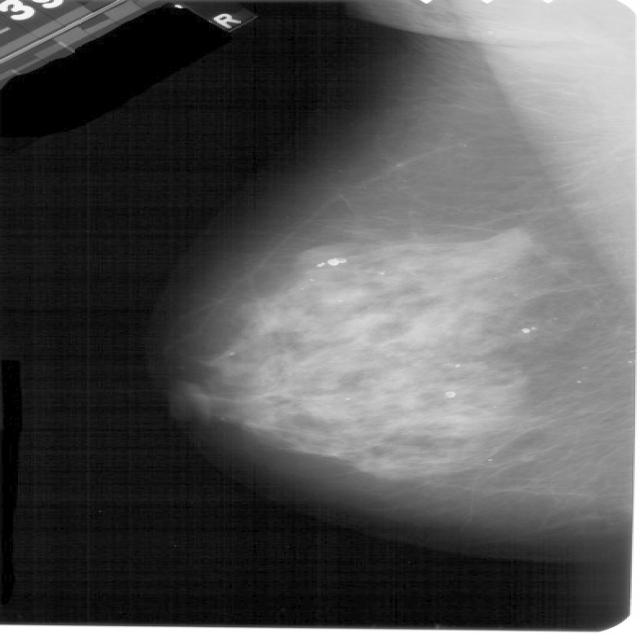tumour: (473, 226, 534, 259)
